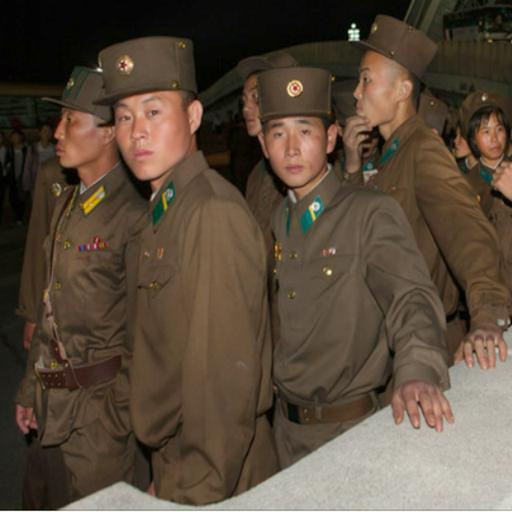north army: (45, 36, 512, 453)
